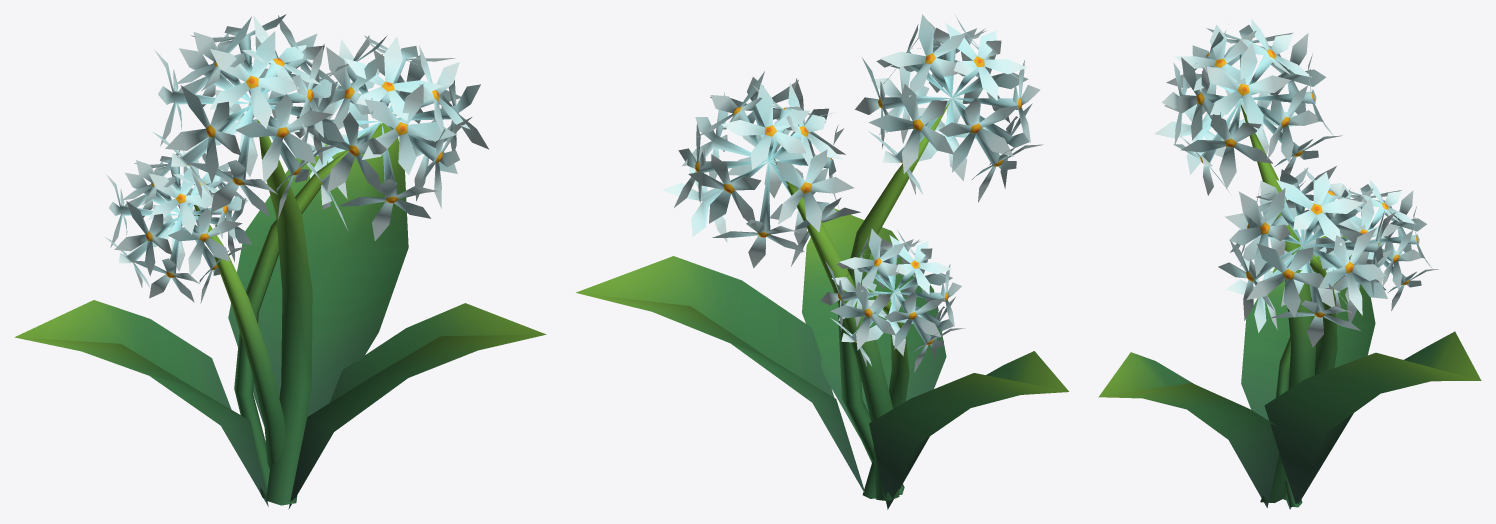
The model's file is flower_030_base_material_0.fbx.
3 renders of one model, left to right at view 1: azimuth 30°, elevation 25°; view 2: azimuth 150°, elevation 25°; view 3: azimuth 270°, elevation 25°, orthographic. The views are drawn at different scales.
Parts seen in each view (by area): view 1: flower_030_base_material_0; view 2: flower_030_base_material_0; view 3: flower_030_base_material_0.
Part boxes in pixels (<box>): flower_030_base_material_0: <box>14,14,546,509</box>; flower_030_base_material_0: <box>576,14,1068,509</box>; flower_030_base_material_0: <box>1098,19,1481,509</box>.
Bounding box in the file's own units: 2.38 × 1.92 × 2.58.
Materials: 1 (1 with a texture image).
